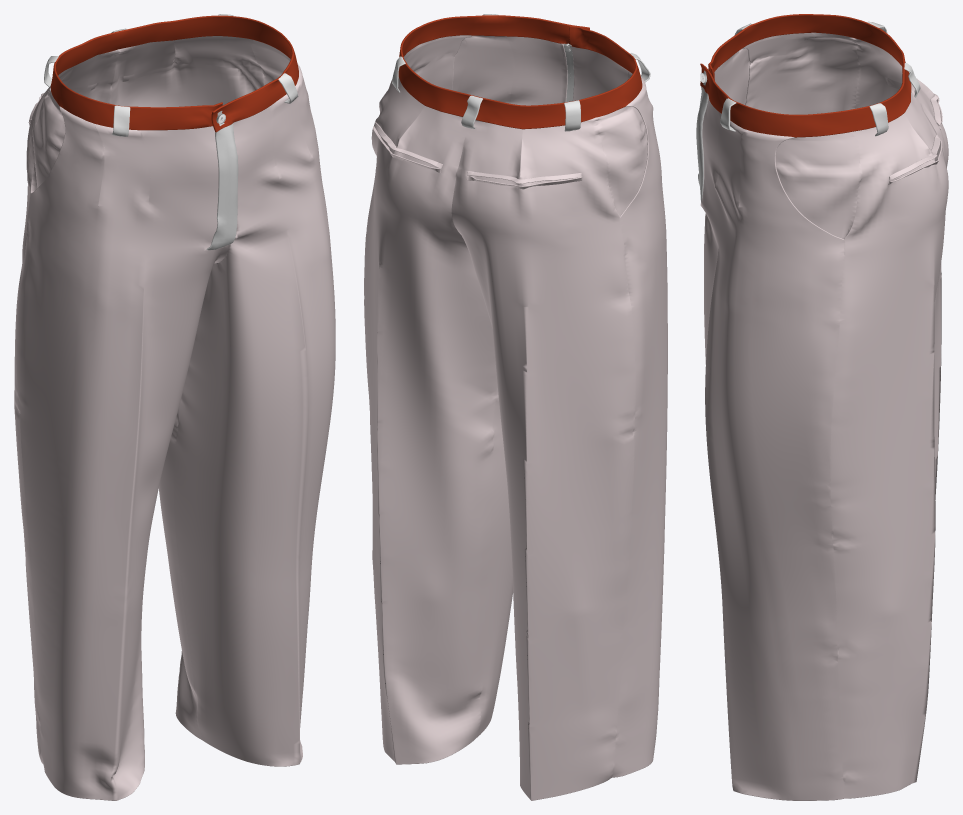
Rendered from White-male_trouser_32.glb.
3 views of the same model, side by side, from view 1: azimuth 30°, elevation 25°; view 2: azimuth 150°, elevation 25°; view 3: azimuth 270°, elevation 25° (orthographic).
Parts seen in each view (by area): view 1: Pant+1; view 2: Pant+1; view 3: Pant+1.
Boxes of the visible parts, left/top/right/bottom form: Pant+1: left=14, top=14, right=335, bottom=800; Pant+1: left=364, top=14, right=667, bottom=800; Pant+1: left=696, top=14, right=948, bottom=800.
Bounding box in the file's own units: 0.3981 × 0.9357 × 0.311.
